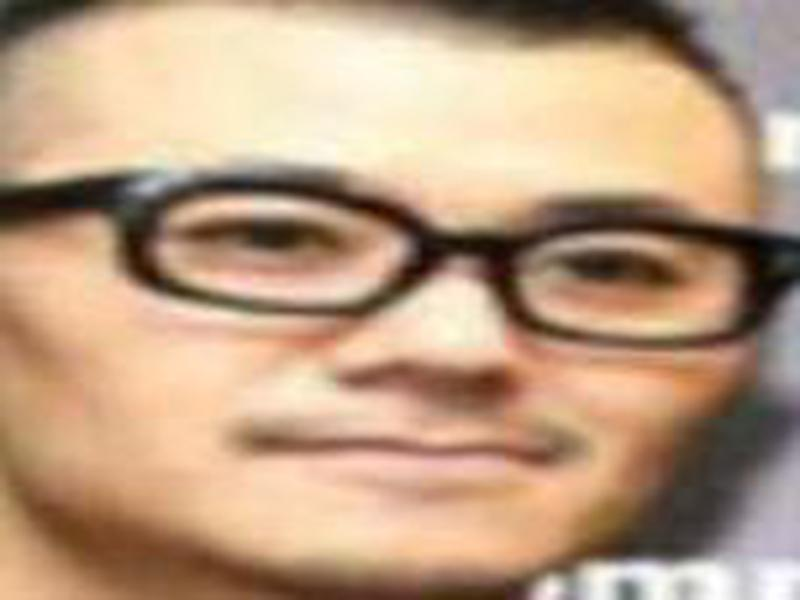without_mask: (26, 18, 766, 600)
